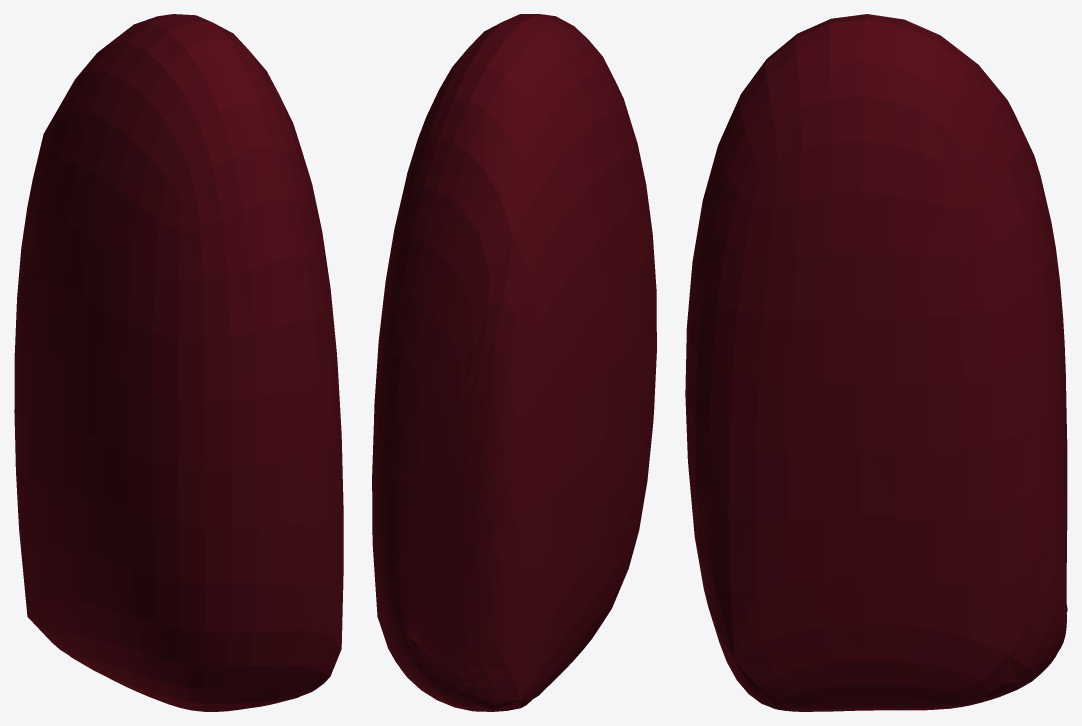
The picture shows the model from 3 angles, left to right: view 1: azimuth 30°, elevation 25°; view 2: azimuth 150°, elevation 25°; view 3: azimuth 270°, elevation 25°; orthographic projection. The views are drawn at different scales.
Parts seen in each view (by area): view 1: 512_Cube.2069; view 2: 512_Cube.2069; view 3: 512_Cube.2069.
Part boxes in pixels (bbox=[...]): 512_Cube.2069: bbox=[14, 14, 343, 711]; 512_Cube.2069: bbox=[372, 14, 656, 711]; 512_Cube.2069: bbox=[685, 14, 1067, 711].
Bounding box in the file's own units: 3.77 × 11.12 × 5.66.
